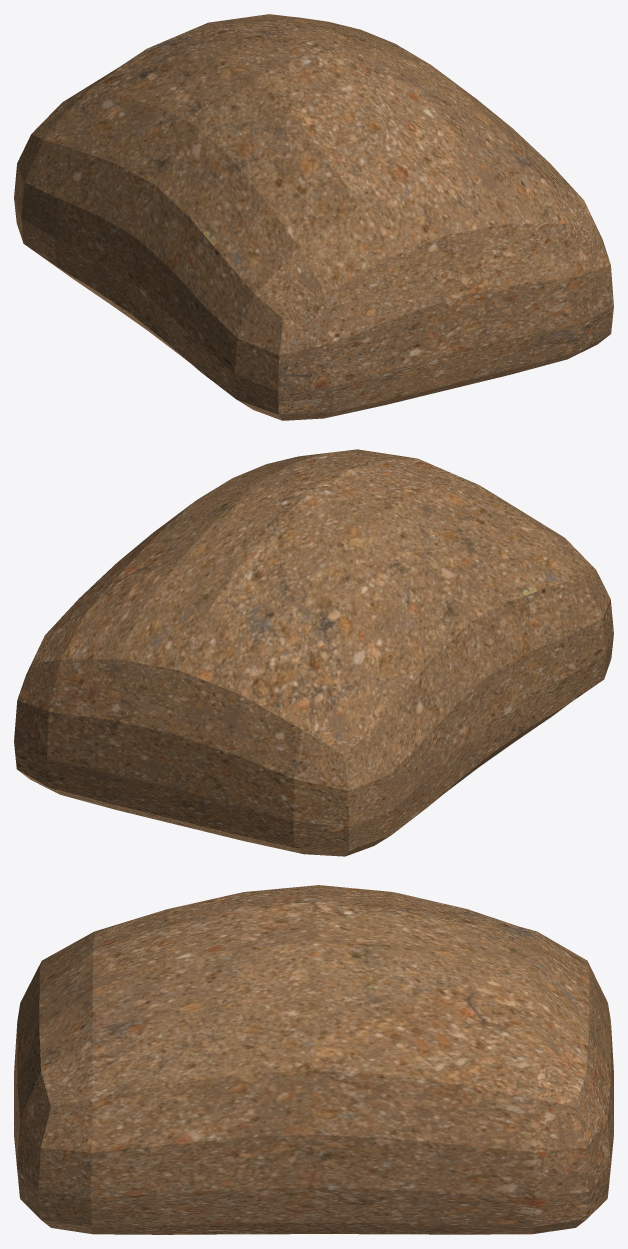
File: grave.fbx
3 renders of one model, top to bottom at view 1: azimuth 30°, elevation 25°; view 2: azimuth 150°, elevation 25°; view 3: azimuth 270°, elevation 25°, orthographic. The views are drawn at different scales.
Parts seen in each view (by area): view 1: Cube; view 2: Cube; view 3: Cube.
Boxes of the visible parts, x1=… form: Cube: x1=14, y1=14, x2=613, y2=420; Cube: x1=14, y1=449, x2=613, y2=856; Cube: x1=14, y1=885, x2=613, y2=1234.
Bounding box in the file's own units: 374 × 238 × 501.
1 material, 1 textured.
